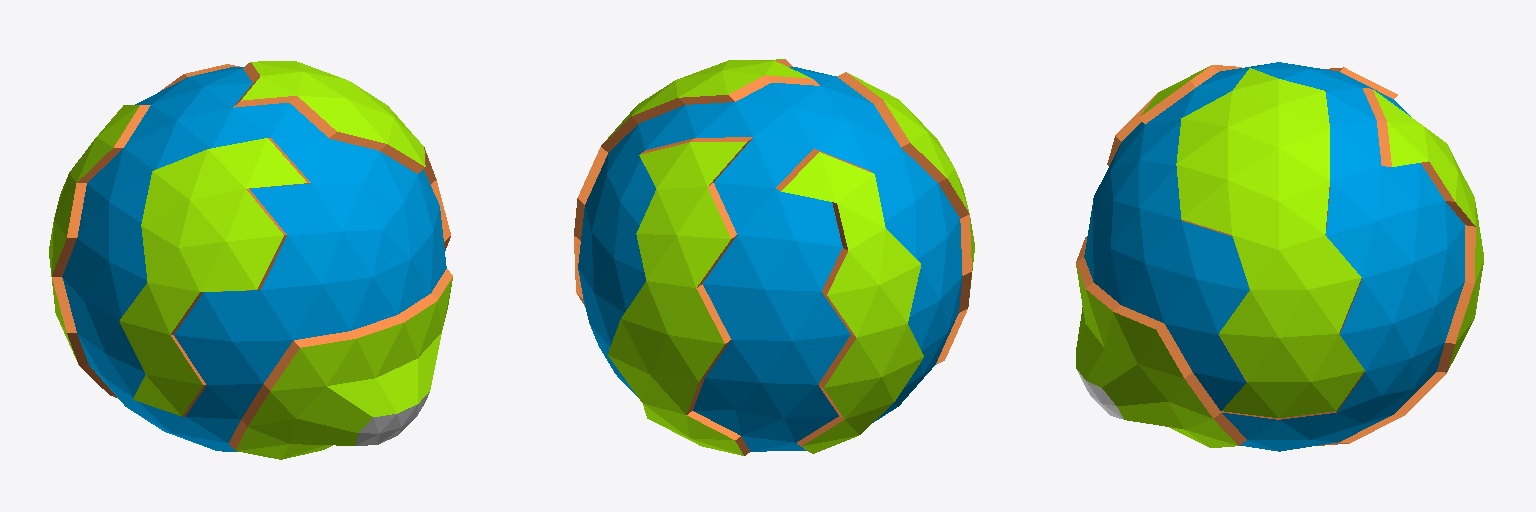
3 renders of one model, left to right at view 1: azimuth 30°, elevation 25°; view 2: azimuth 150°, elevation 25°; view 3: azimuth 270°, elevation 25°, orthographic.
Visible parts, largest first — view 1: Icosphere; view 2: Icosphere; view 3: Icosphere.
Part boxes in pixels (x1,y1,x2,y2): Icosphere: (49, 61, 452, 459); Icosphere: (574, 59, 974, 455); Icosphere: (1076, 62, 1483, 451).
Bounding box in the file's own units: 3.8 × 3.77 × 3.89.
1 materials, 1 textured.